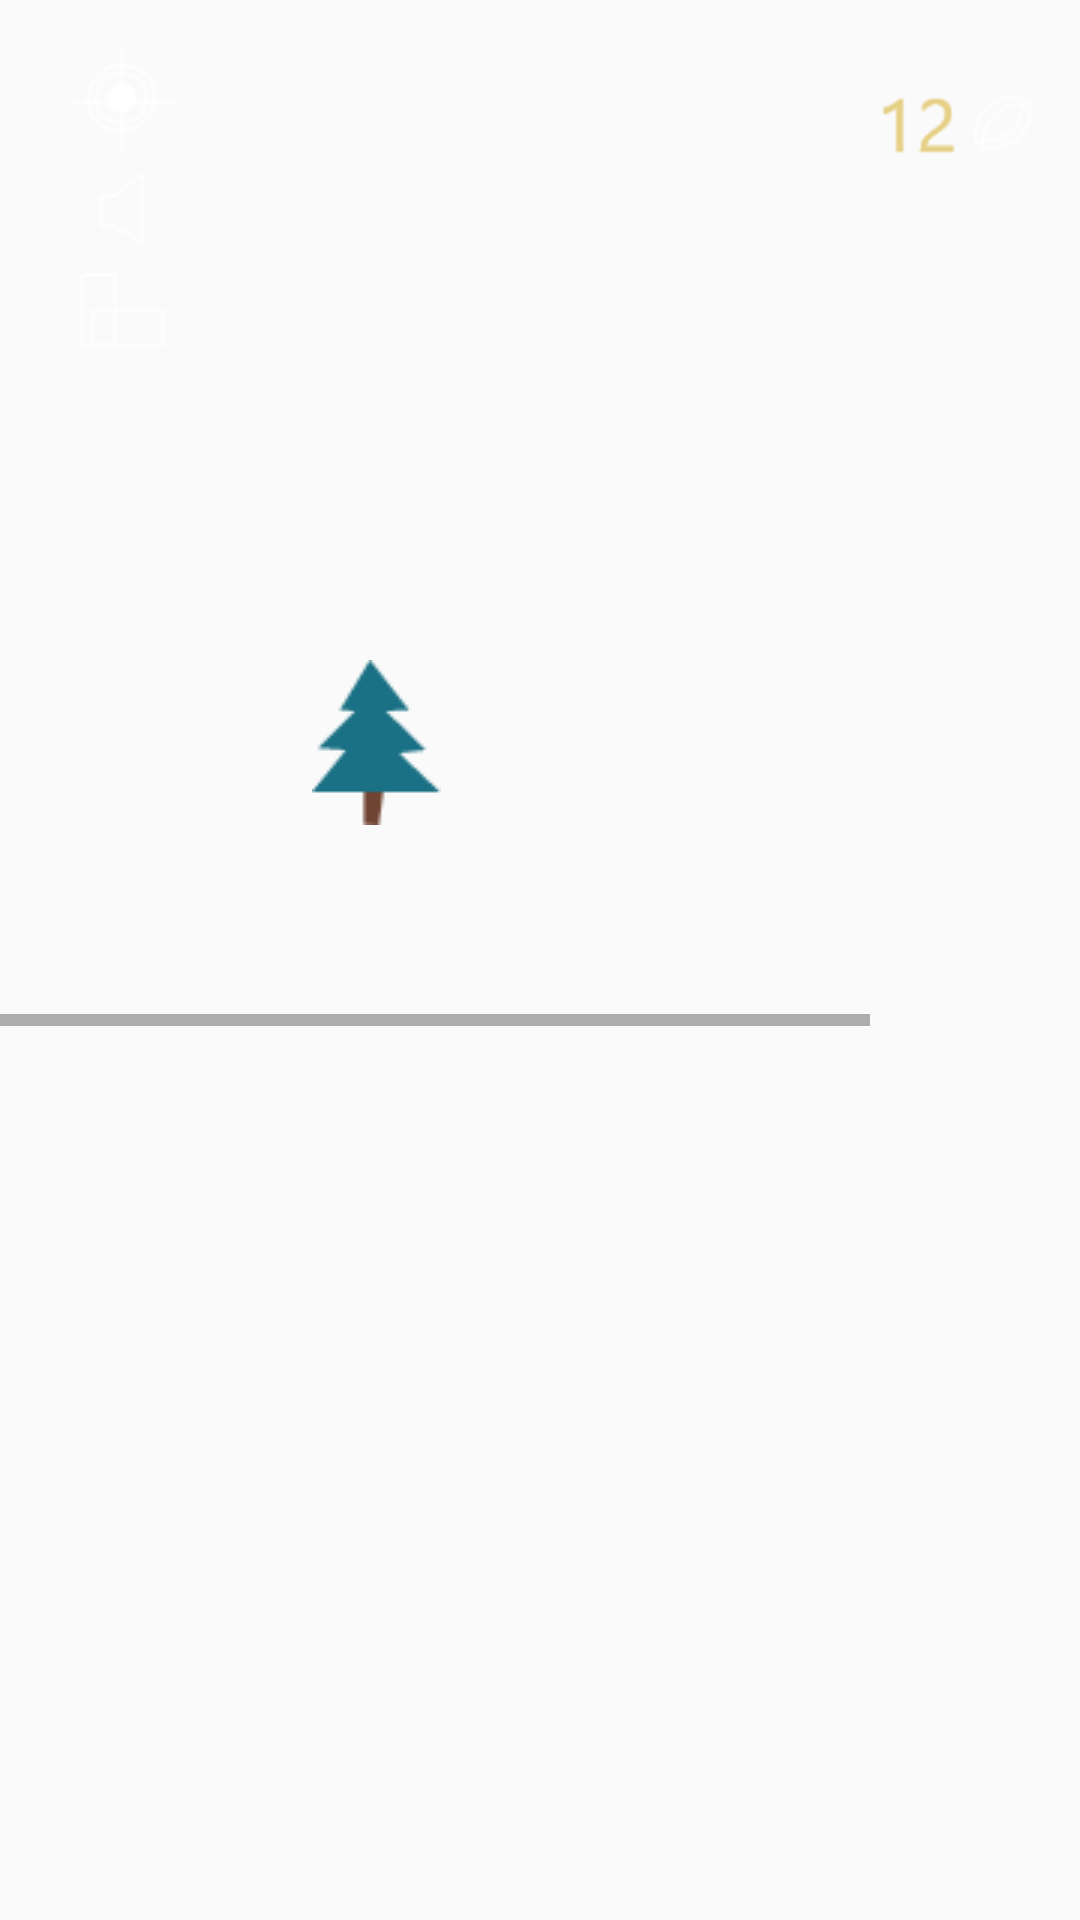

Point at icon controls on the screen. Image size 1080 x 1920, points as (x=x, y=y).
tree: (x=376, y=742)
